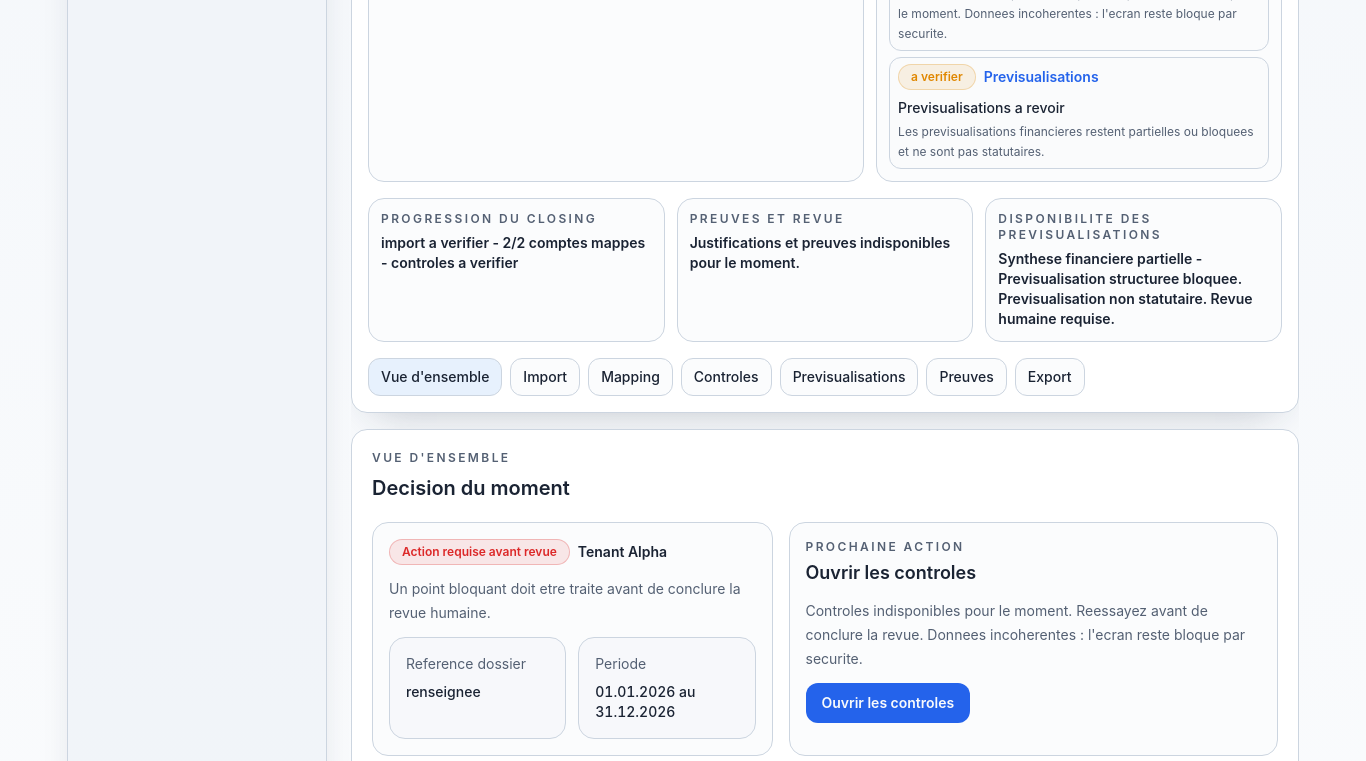
Test: router financial summary › renders the PREVIEW_PARTIAL preview as scan-ready rows and never renders nextAction.path
(page scrolled)
Step 1. Click the tab "Previsualisations" → click(849, 377), box [780,358,918,396]
(page scrolled)
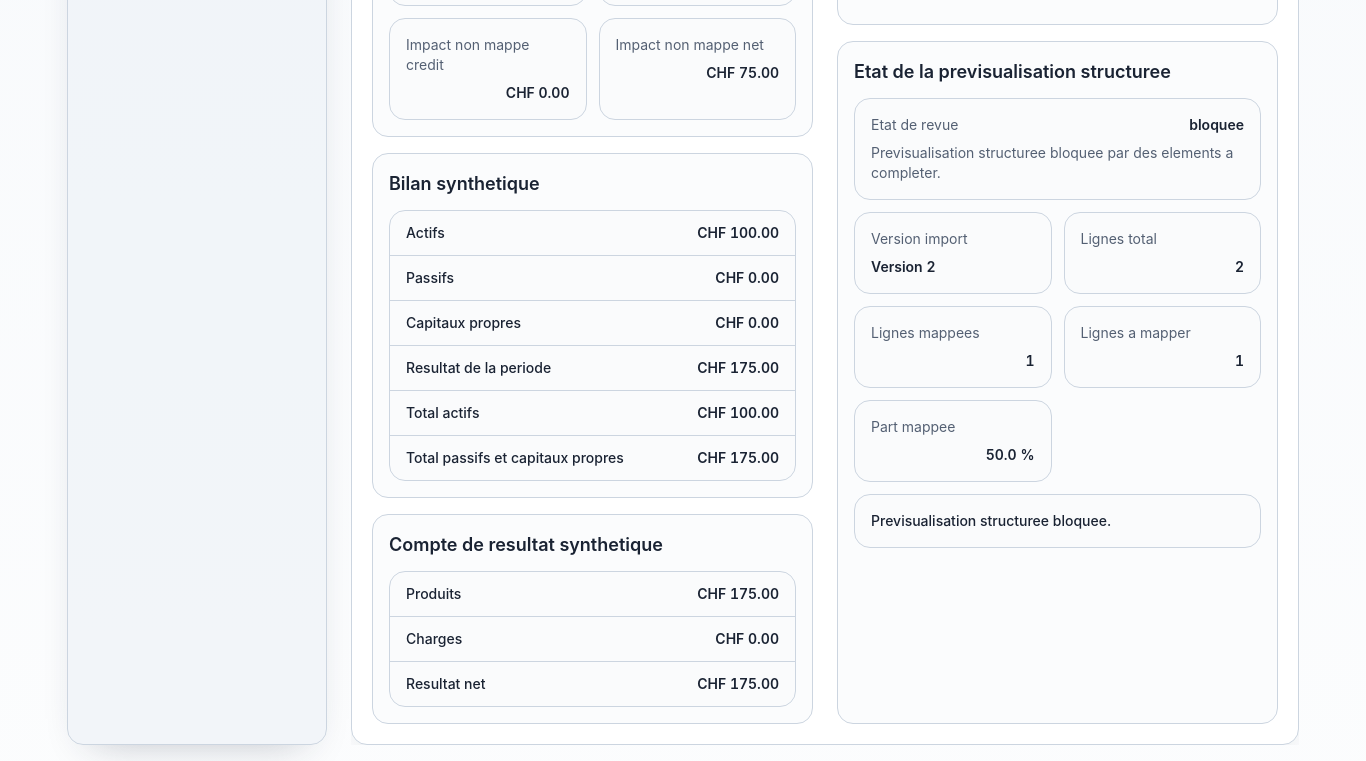
expect the heading "Bilan synthetique" is shown: met, box [389,173,540,194]
expect the heading "Compte de resultat synthetique" is shown: met, box [389,534,663,555]
expect the text "Actifs" is shown: met, box [406,224,445,241]
